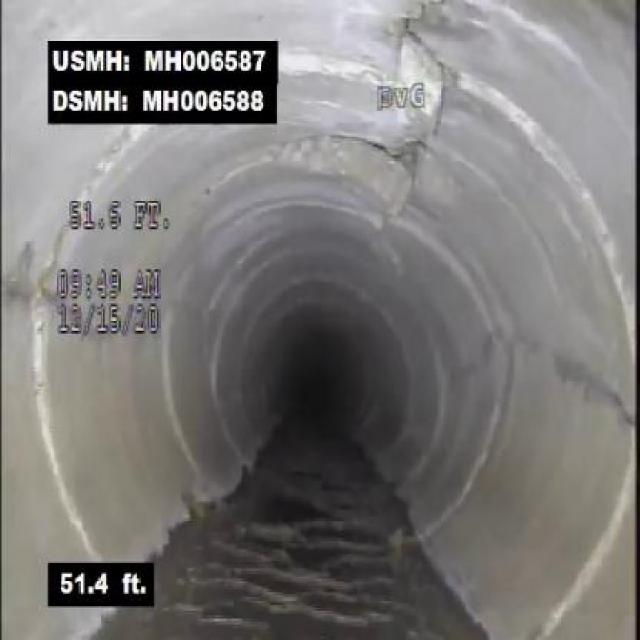Buckling: (363, 8, 466, 140), (358, 140, 444, 235)
